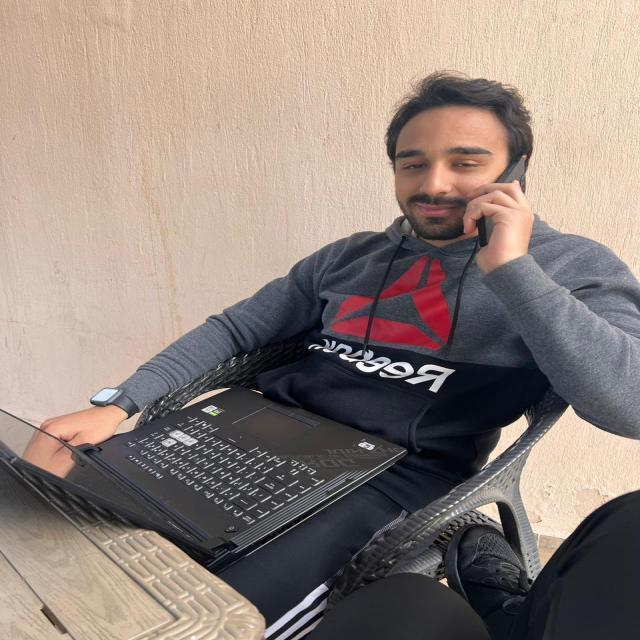phone: (475, 155, 531, 246)
